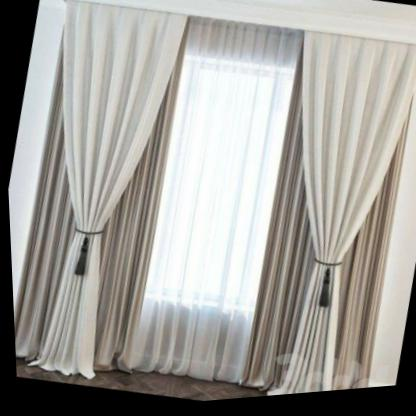Curtains: (10, 1, 188, 380), (237, 36, 416, 400), (31, 2, 187, 382), (262, 35, 416, 400)
